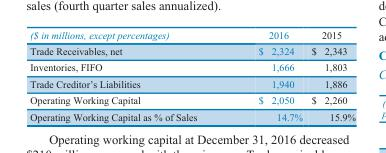table: (29, 28, 354, 121)
table column: (29, 28, 227, 121), (227, 28, 306, 121), (306, 28, 354, 121)
table column header: (29, 28, 354, 42)
table row: (29, 58, 354, 75), (29, 91, 354, 108), (29, 42, 354, 58), (29, 75, 354, 91), (29, 28, 354, 42), (29, 108, 354, 121)
